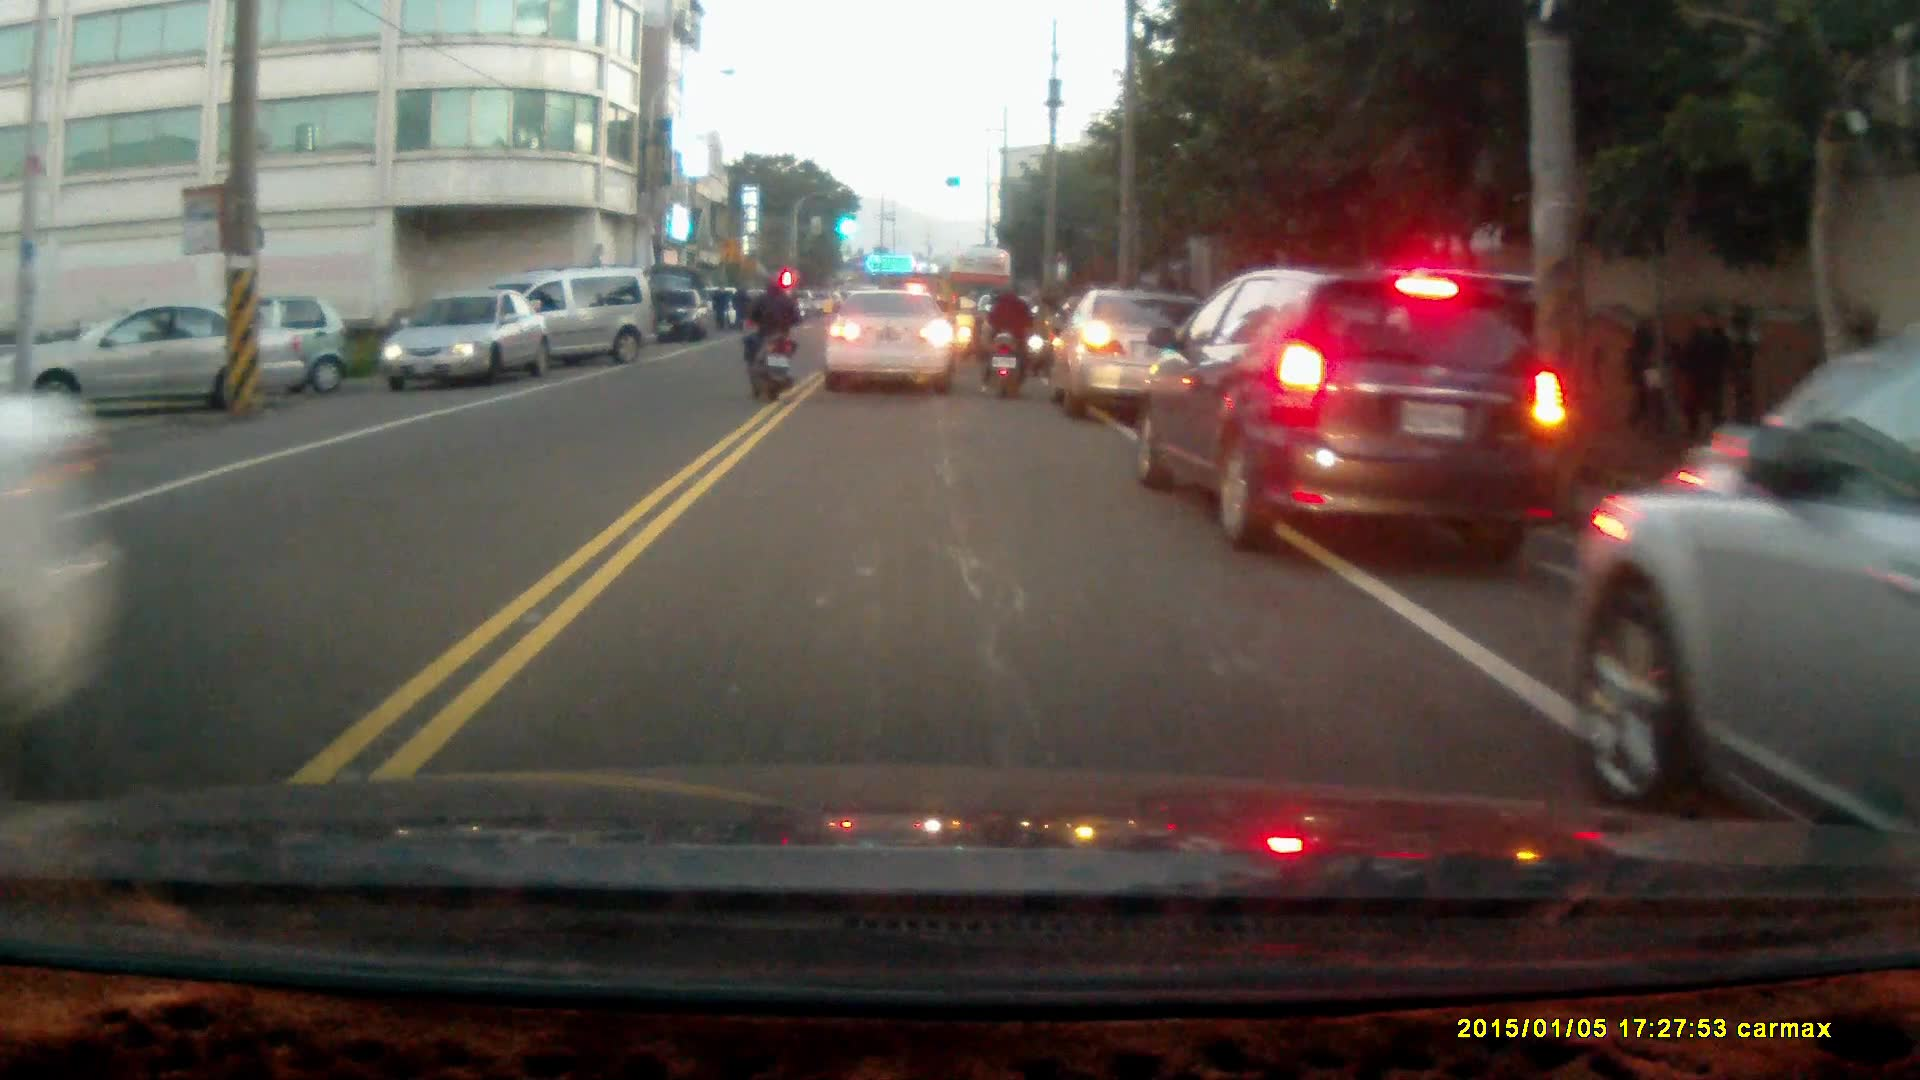pedestrian: (1681, 304, 1735, 448), (1630, 304, 1678, 449)
rider: (979, 271, 1040, 400), (741, 276, 802, 401)
vehicle: (1564, 341, 1920, 868), (1130, 264, 1571, 552), (134, 294, 353, 398), (1047, 287, 1210, 416), (480, 267, 657, 374), (381, 288, 547, 392), (823, 288, 956, 398), (648, 289, 707, 345)
